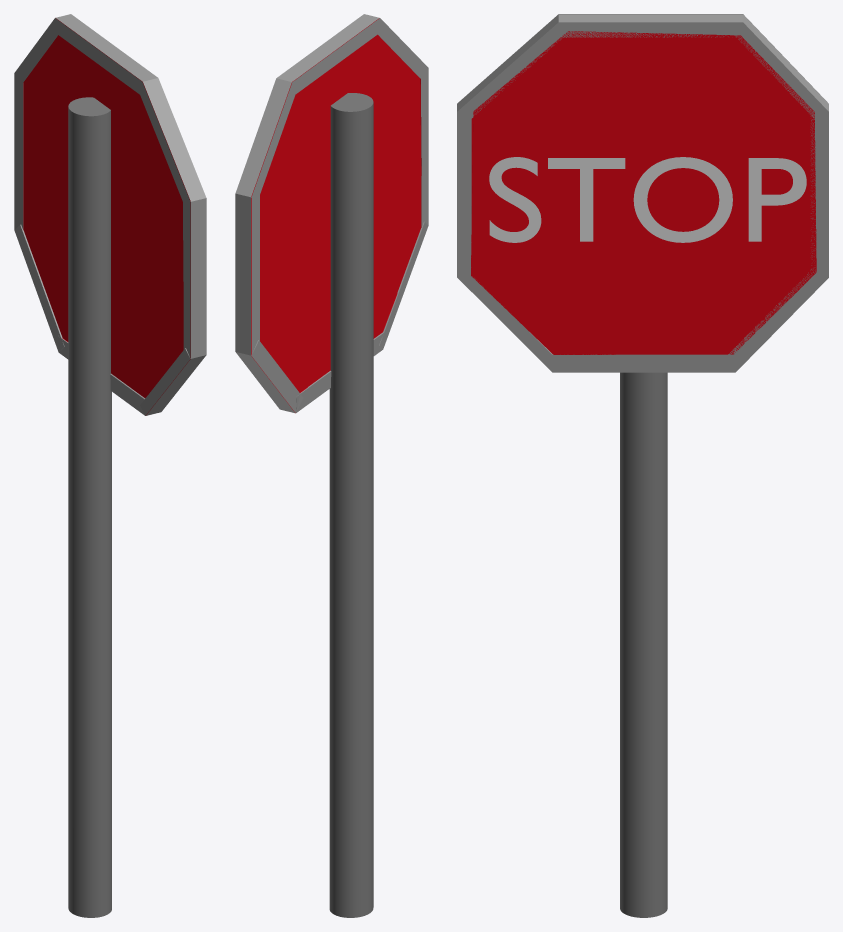
File: stop sign .fbx
3 renders of one model, left to right at view 1: azimuth 30°, elevation 25°; view 2: azimuth 150°, elevation 25°; view 3: azimuth 270°, elevation 25°, orthographic. The views are drawn at different scales.
Parts seen in each view (by area): view 1: Cube, Cylinder; view 2: Cube, Cylinder; view 3: Cube, Cylinder, Text.
Boxes of the visible parts, <box> form: Cube: <box>14,14,206,415</box>; Cylinder: <box>68,97,111,917</box>; Cube: <box>235,14,428,413</box>; Cylinder: <box>329,93,373,917</box>; Cube: <box>457,14,828,372</box>; Cylinder: <box>620,372,667,917</box>; Text: <box>489,157,806,242</box>.
Size of the model in its own units: 54.49 by 830 by 311.
